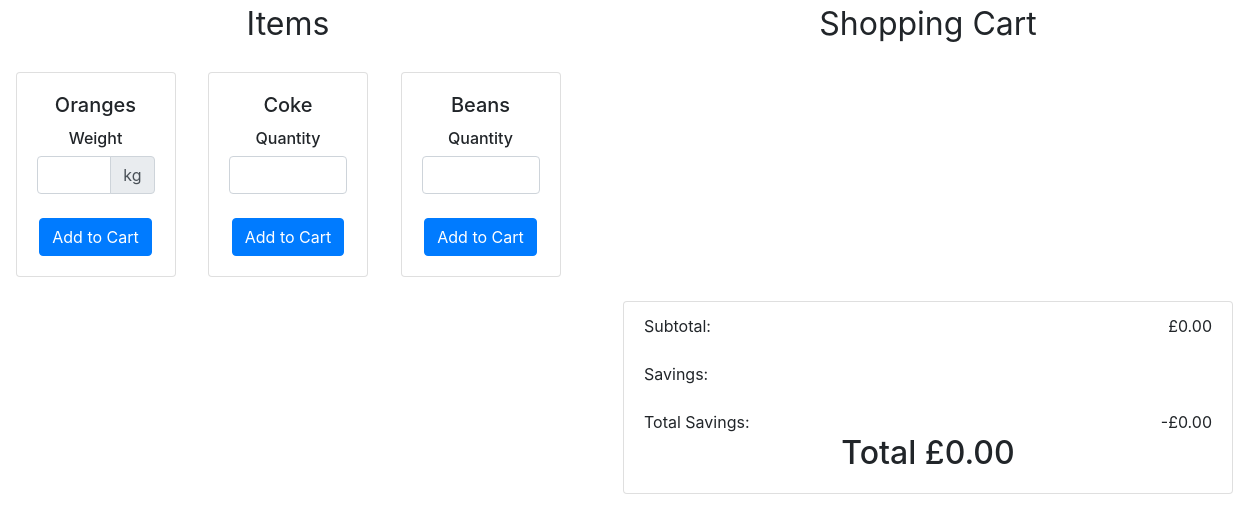
Test case: Shopping Cart › should be able to add Oranges to cart
Step 1. Type "1" into the field named "Weight" next to "kg" → x=75, y=175, box [37, 156, 112, 194]
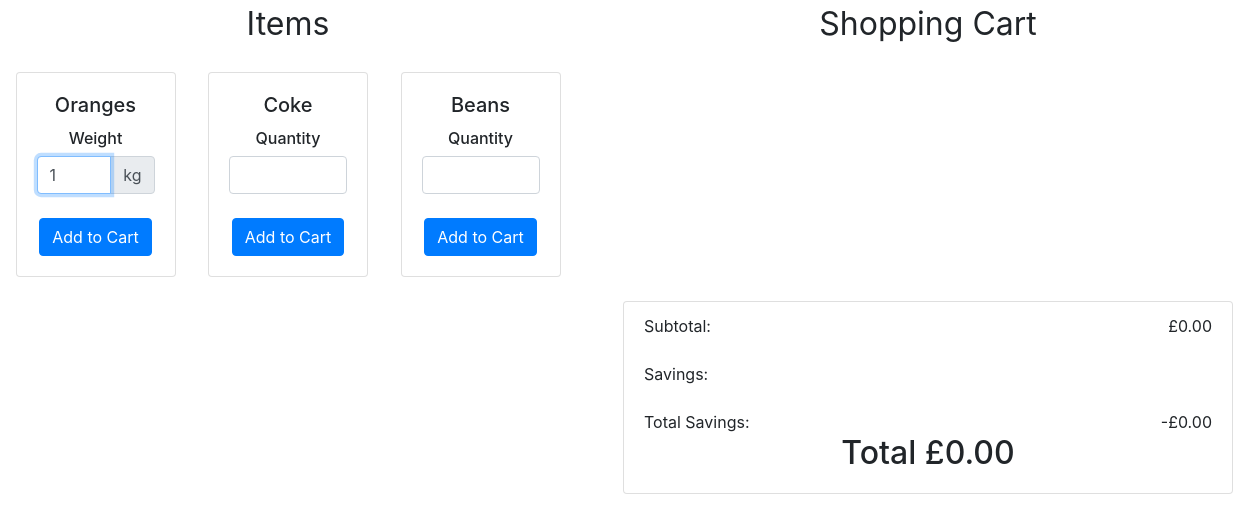
Step 2. Click the button "Add to Cart" below "kg" → x=96, y=237, box [39, 218, 152, 256]
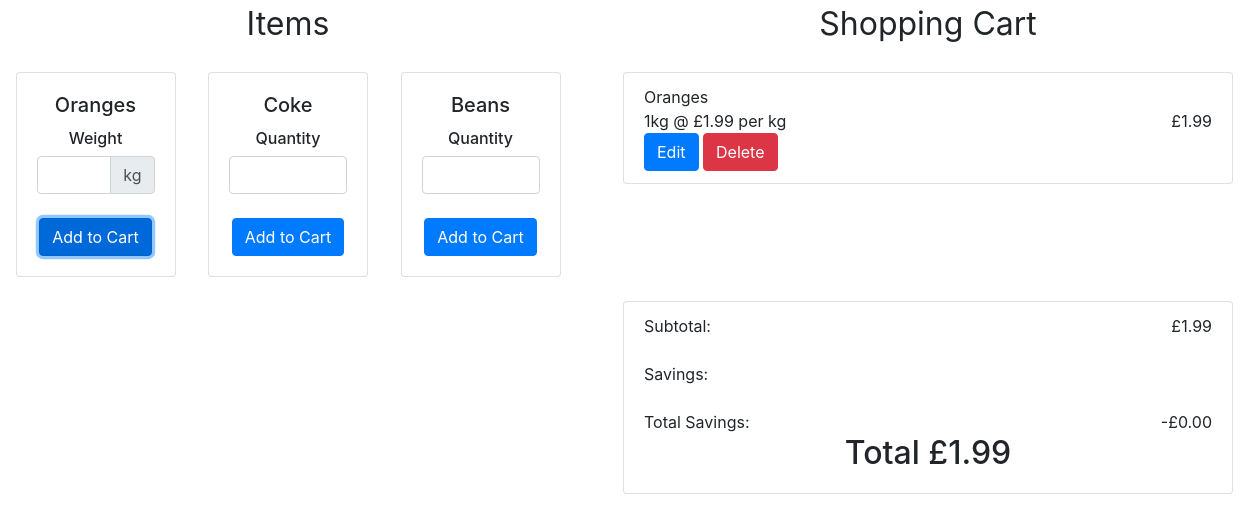
Now the element with class "list-group-item" shows "Oranges", box [644, 87, 708, 107]
Now the text with class "list-group-item" reads "1kg @ £1.99 per kg", box [644, 109, 786, 133]
